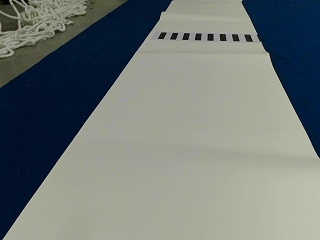crosswalk: (156, 30, 252, 42)
